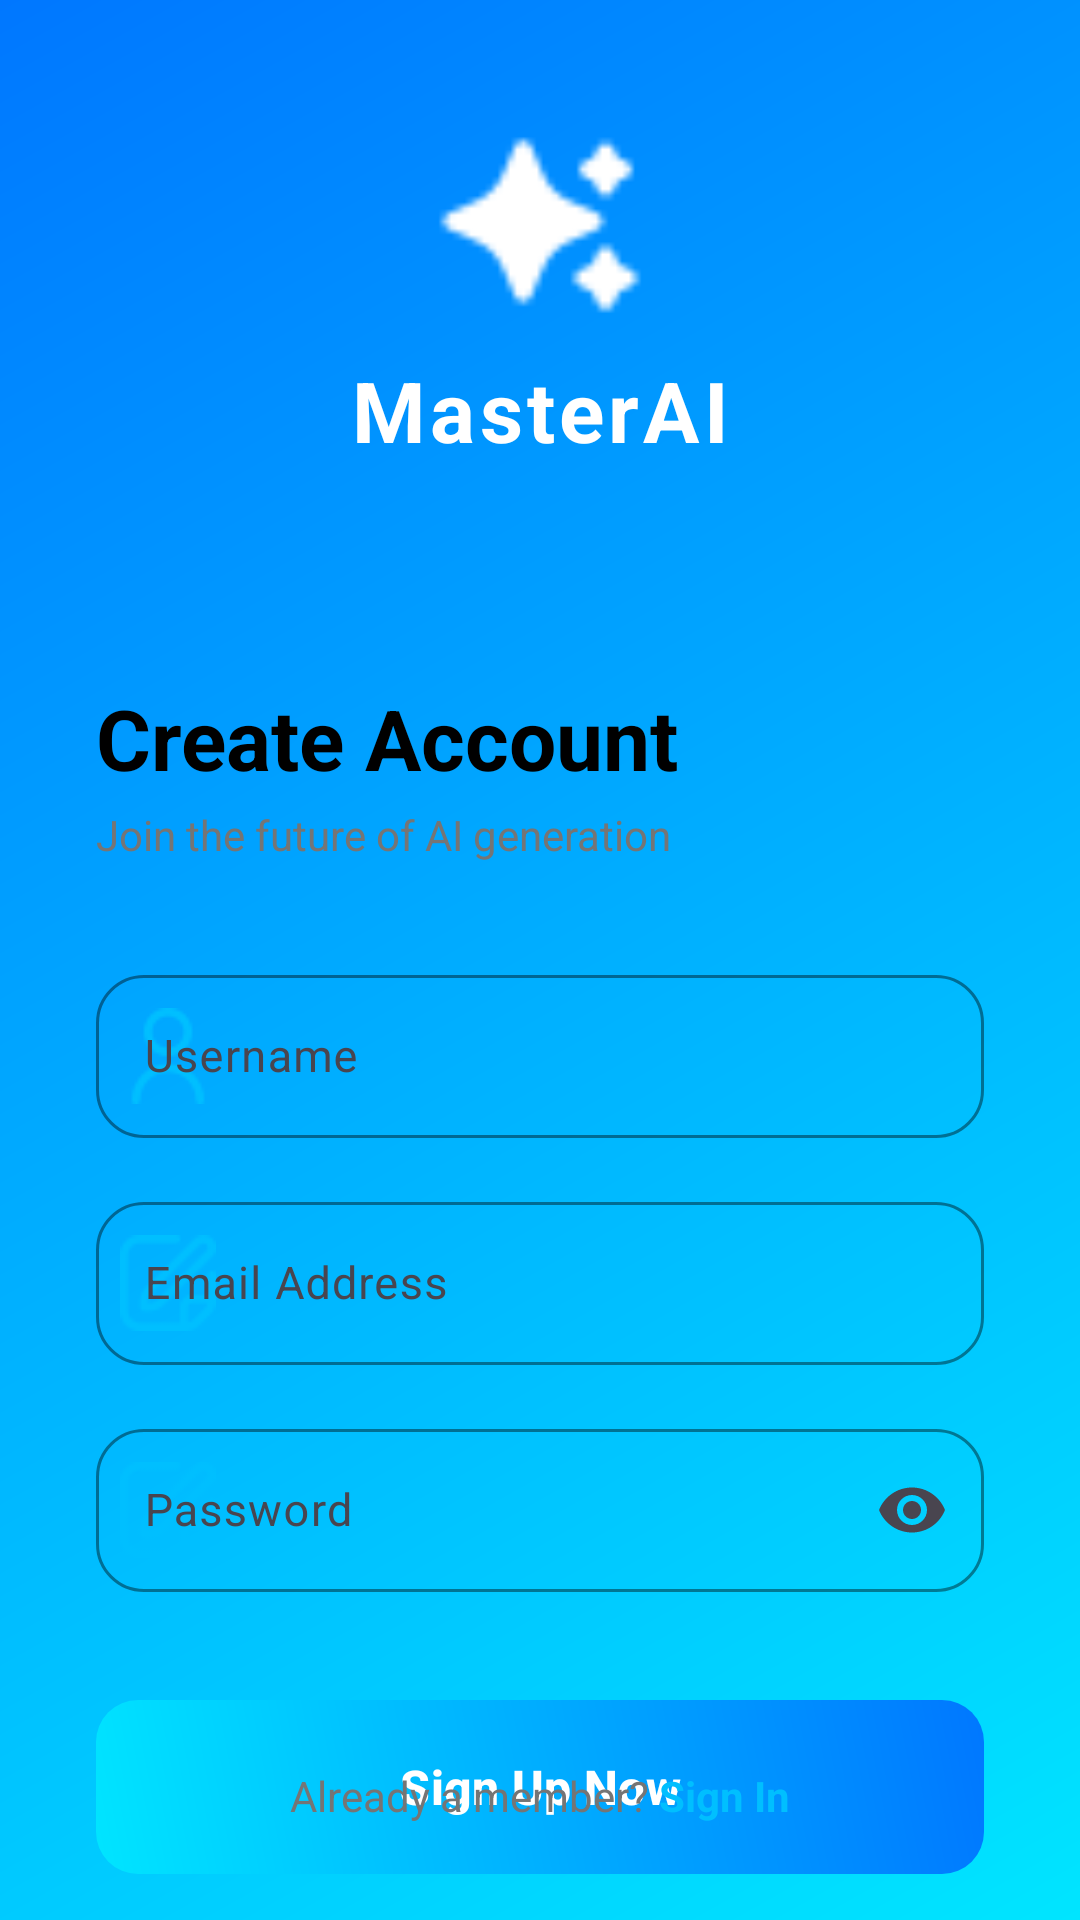

Where icons sit on this 1080 x 1920 app screen, as box(x1, y1, x2, y2):
generate: box(439, 137, 641, 313)
